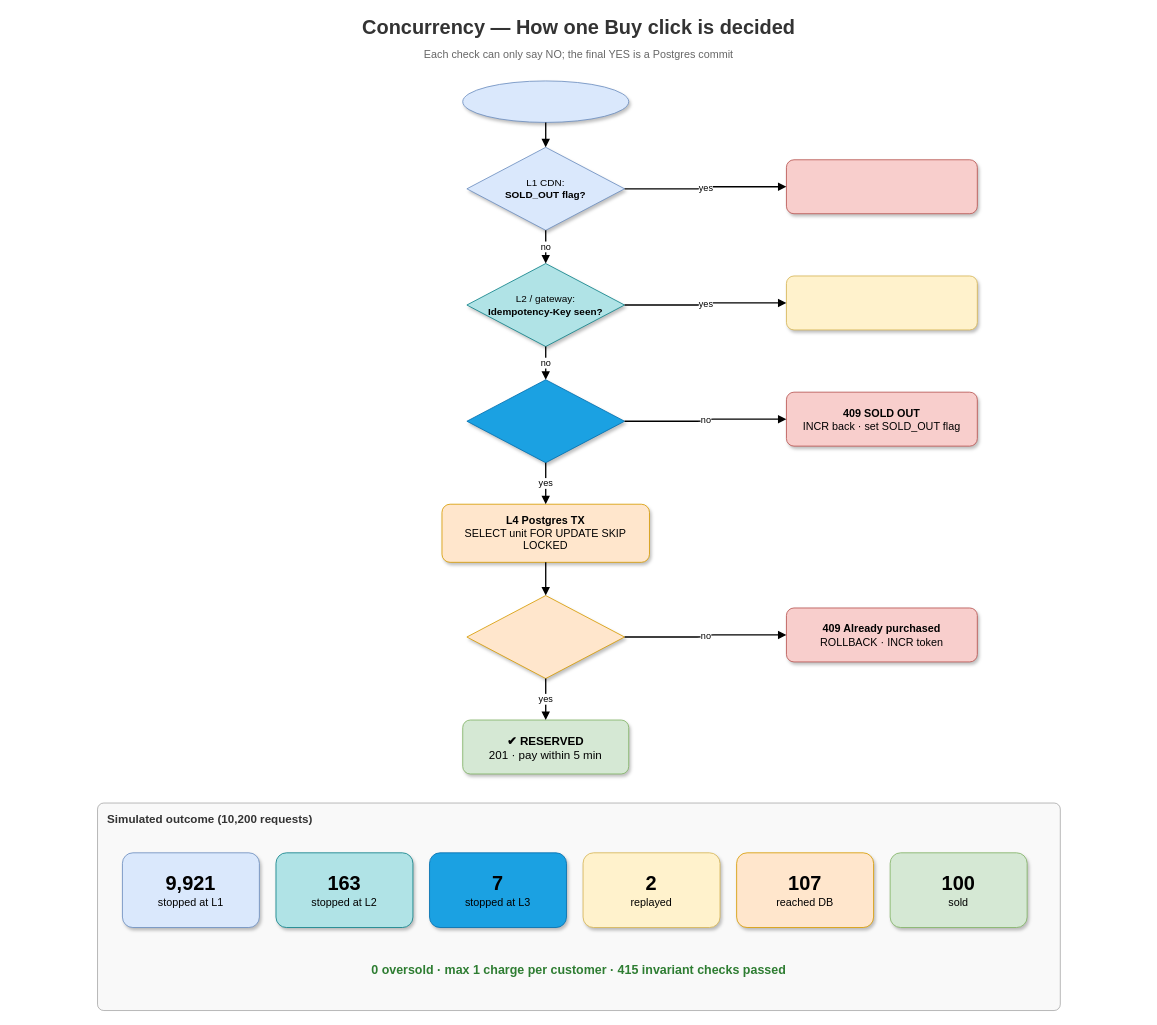
Image size: 1157x1025. Some labels were removed from this diagram. The shapes that lost their labels are listed below. From the top down, each one's centre as x and y in pixels, then its label:
At (x=546, y=102): "Buy Now click".
At (x=882, y=188): "409 SOLD OUT served from edge (~10 ms)".
At (x=882, y=304): "Replay stored response no new work".
At (x=546, y=422): "L3 Redis: DECR token ≥ 0?".
At (x=546, y=637): "UNIQUE(sale, customer) ok?".
